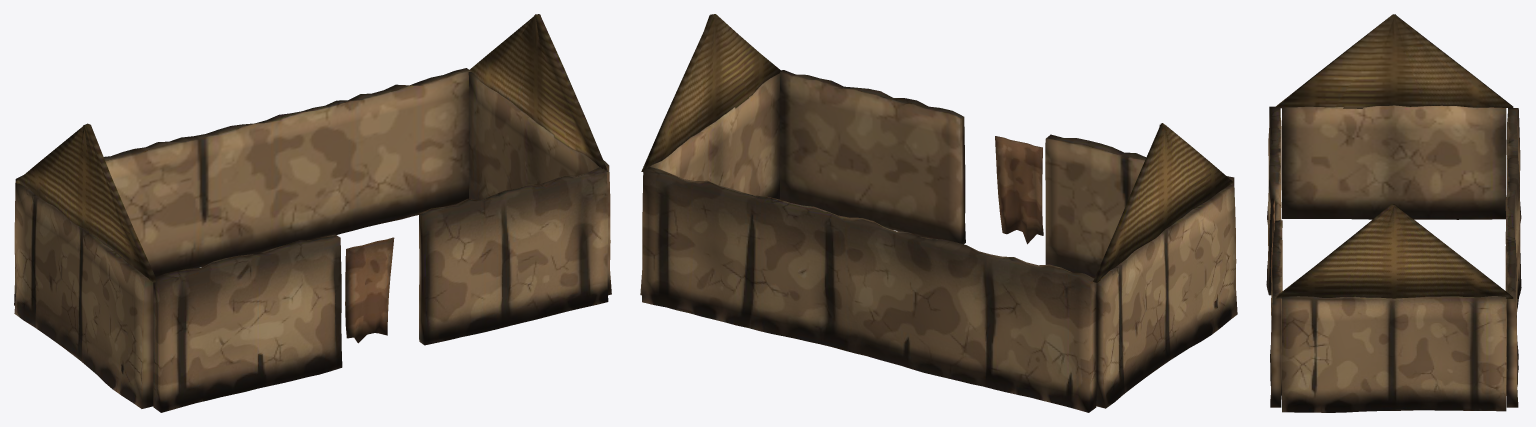
File: longhouse_daub.gltf
3 views of the same model, side by side, from view 1: azimuth 30°, elevation 25°; view 2: azimuth 150°, elevation 25°; view 3: azimuth 270°, elevation 25° (orthographic). The views are drawn at different scales.
Visible parts, largest first — view 1: longhouse_daub; view 2: longhouse_daub; view 3: longhouse_daub.
Part boxes in pixels (<box>): longhouse_daub: <box>14,14,611,412</box>; longhouse_daub: <box>640,14,1237,412</box>; longhouse_daub: <box>1266,14,1521,412</box>.
Size of the model in its own units: 6.96 by 3.3 by 3.75.
Materials: 3 (3 with a texture image).
